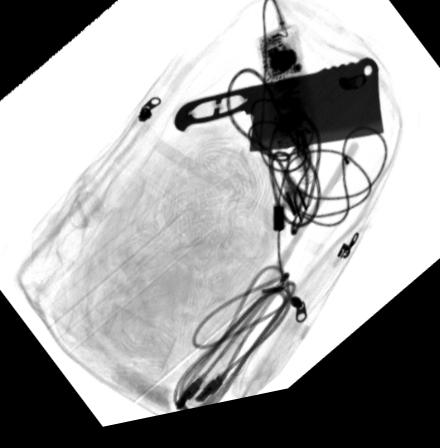Knife: (172, 71, 385, 163)
